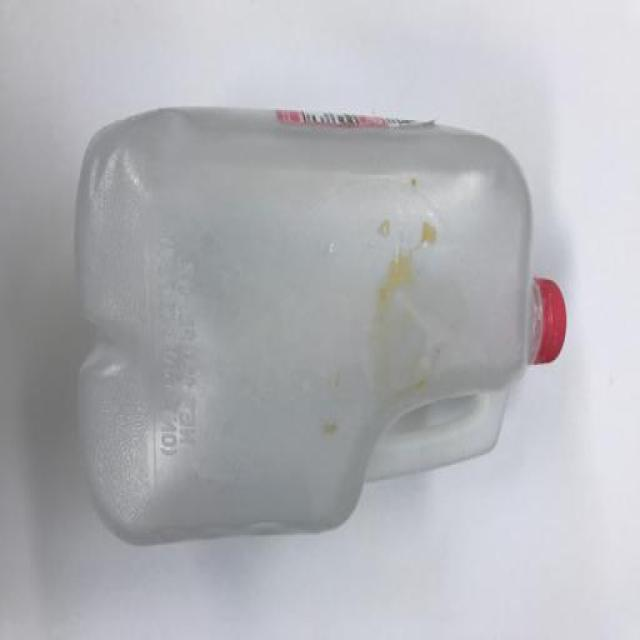Plastic: (71, 107, 568, 550)
